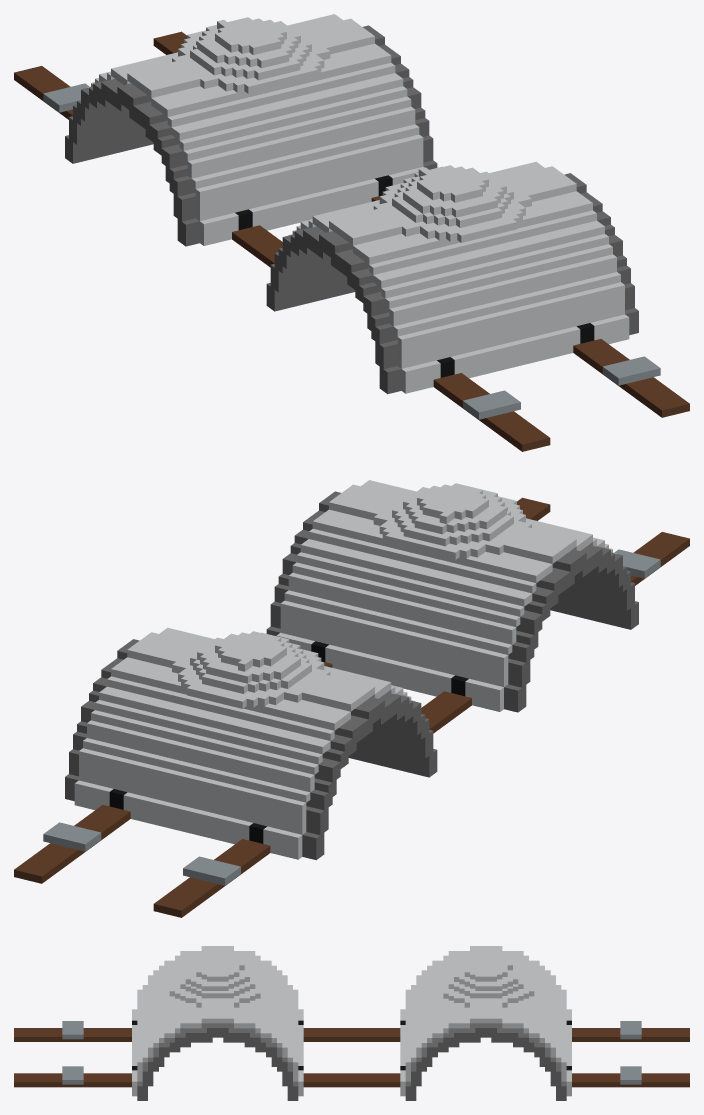
Rendered from knee_guards_sheet_metal.glb.
3 renders of one model, top to bottom at view 1: azimuth 30°, elevation 25°; view 2: azimuth 150°, elevation 25°; view 3: azimuth 270°, elevation 25°, orthographic. The views are drawn at different scales.
Parts seen in each view (by area): view 1: knee_guards_sheet_metal:compound; view 2: knee_guards_sheet_metal:compound; view 3: knee_guards_sheet_metal:compound.
Part boxes in pixels (box(x1,y1,x2,y2)): knee_guards_sheet_metal:compound: box(14, 14, 689, 451); knee_guards_sheet_metal:compound: box(14, 480, 689, 917); knee_guards_sheet_metal:compound: box(14, 946, 689, 1100).
Size of the model in its own units: 0.144 by 0.076 by 0.504.
